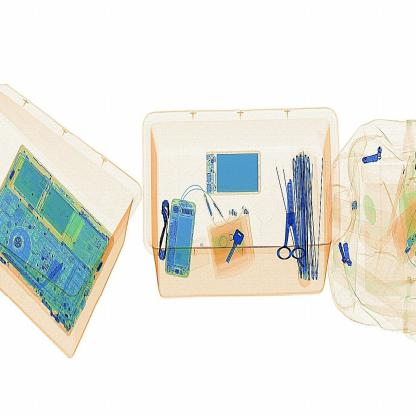gun: (271, 172, 312, 276)
